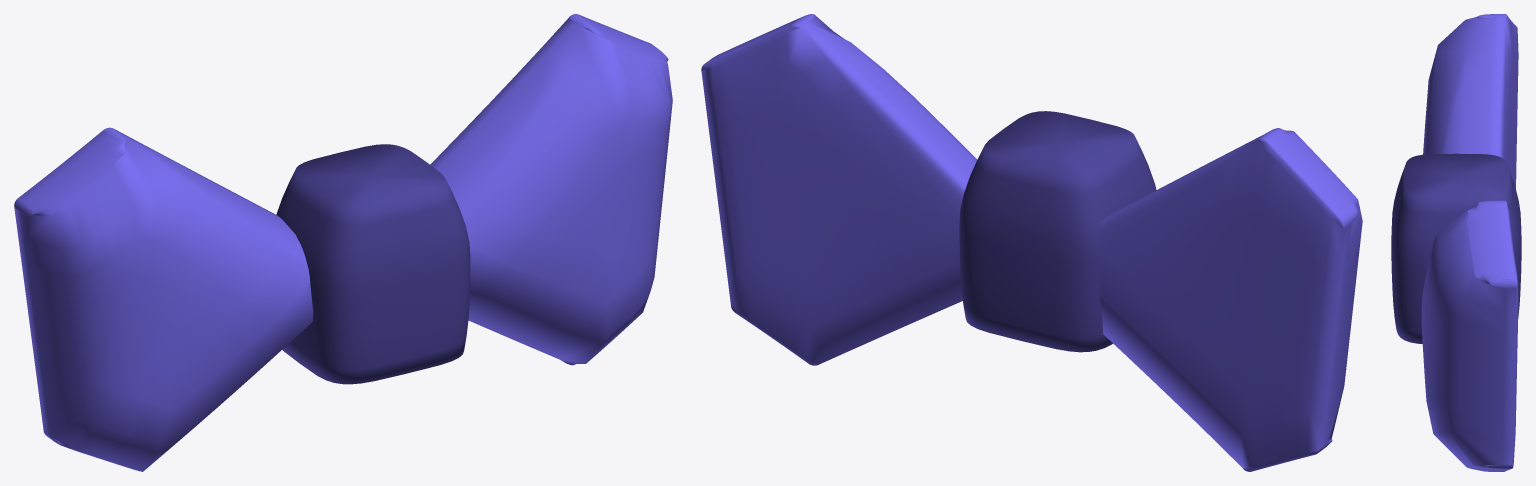
File: butler_bow_tie.glb
3 views of the same model, side by side, from view 1: azimuth 30°, elevation 25°; view 2: azimuth 150°, elevation 25°; view 3: azimuth 270°, elevation 25° (orthographic). The views are drawn at different scales.
Parts seen in each view (by area): view 1: butler_bow_tie__loop_r, butler_bow_tie__loop_l, butler_bow_tie__knot; view 2: butler_bow_tie__loop_l, butler_bow_tie__loop_r, butler_bow_tie__knot; view 3: butler_bow_tie__loop_l, butler_bow_tie__loop_r, butler_bow_tie__knot.
Part boxes in pixels (<box>): butler_bow_tie__loop_r: <box>14,127,313,471</box>; butler_bow_tie__loop_l: <box>430,14,672,365</box>; butler_bow_tie__knot: <box>276,144,470,384</box>; butler_bow_tie__loop_l: <box>701,14,977,365</box>; butler_bow_tie__loop_r: <box>1099,128,1362,471</box>; butler_bow_tie__knot: <box>959,111,1156,352</box>; butler_bow_tie__loop_l: <box>1421,200,1518,471</box>; butler_bow_tie__loop_r: <box>1423,14,1518,188</box>; butler_bow_tie__knot: <box>1391,153,1521,343</box>.
Size of the model in its own units: 0.55 by 0.276 by 0.118.
